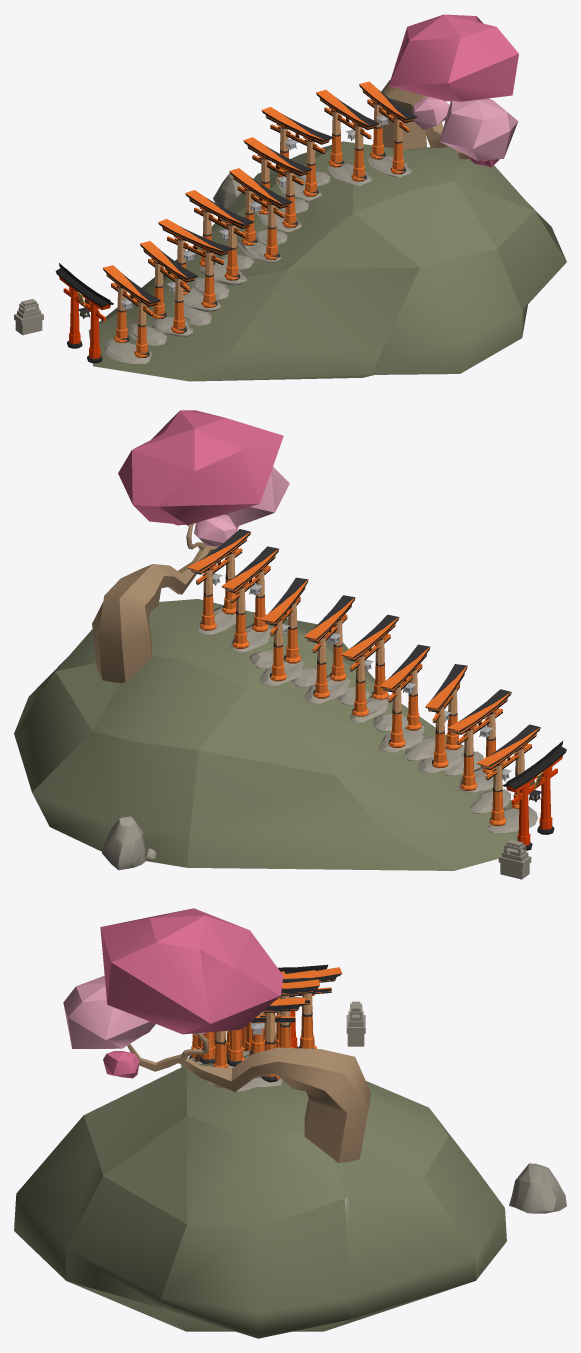
Rendered from Tori_2.fbx.
3 views of the same model, one above another, from view 1: azimuth 30°, elevation 25°; view 2: azimuth 150°, elevation 25°; view 3: azimuth 270°, elevation 25° (orthographic). The views are drawn at different scales.
Parts seen in each view (by area): view 1: hill, treeL1, toriiGate1, toriiN1, toriiN4, toriiN8, toriiN7, toriiN, toriiN6, toriiN5, toriiN2, toriiN3 (+5 smaller); view 2: hill, treeL1, toriiGate1, toriiN4, toriiN, toriiN1, toriiN3, toriiN2, toriiN7, toriiN5, toriiN8, toriiN6 (+6 smaller); view 3: hill, treeL1, rock1, toriiN2, toriiN, toriiN1, pCube1.
Part boxes in pixels (box(x1,y1,x2,y2)): hill: box(88, 141, 566, 381); treeL1: box(381, 14, 518, 167); toriiGate1: box(55, 263, 113, 363); toriiN1: box(316, 89, 379, 181); toriiN4: box(229, 168, 292, 260); toriiN8: box(103, 265, 160, 357); toriiN7: box(140, 241, 197, 333); toriiN: box(359, 81, 417, 174); toriiN6: box(158, 219, 232, 307); toriiN5: box(185, 190, 253, 280); toriiN2: box(261, 107, 333, 196); toriiN3: box(243, 137, 311, 228); hill: box(14, 599, 531, 870); treeL1: box(92, 410, 289, 682); toriiGate1: box(503, 741, 566, 850); toriiN4: box(341, 614, 399, 716); toriiN: box(187, 529, 250, 630); toriiN1: box(221, 546, 279, 648); toriiN3: box(304, 595, 355, 698); toriiN2: box(262, 577, 308, 681); toriiN7: box(448, 689, 511, 790); toriiN5: box(380, 644, 430, 747); toriiN8: box(477, 724, 540, 826); toriiN6: box(425, 664, 467, 768); hill: box(14, 1063, 506, 1338); treeL1: box(63, 908, 371, 1163); rock1: box(509, 1163, 566, 1213); toriiN2: box(249, 967, 342, 1055); toriiN: box(213, 997, 304, 1082); toriiN1: box(227, 979, 319, 1066); pCube1: box(346, 1009, 365, 1046).
Bounding box in the file's own units: 105 × 68.18 × 82.92.
